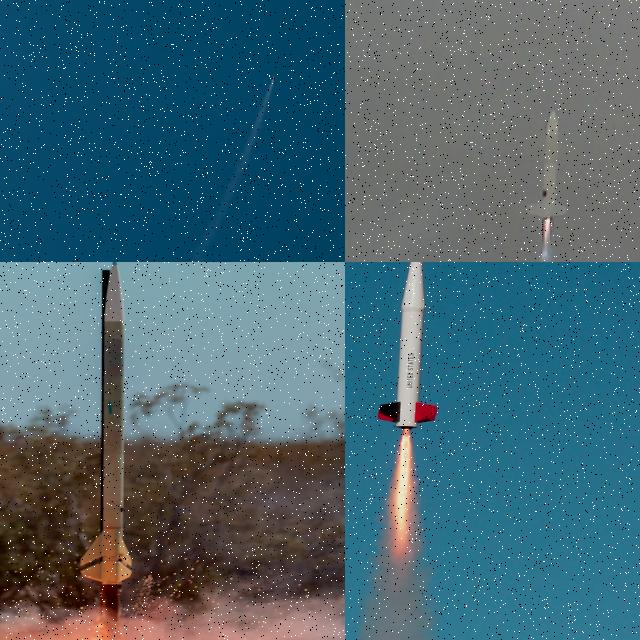Rocket: (80, 262, 131, 588), (376, 262, 437, 430), (526, 108, 570, 218), (270, 76, 276, 82)
